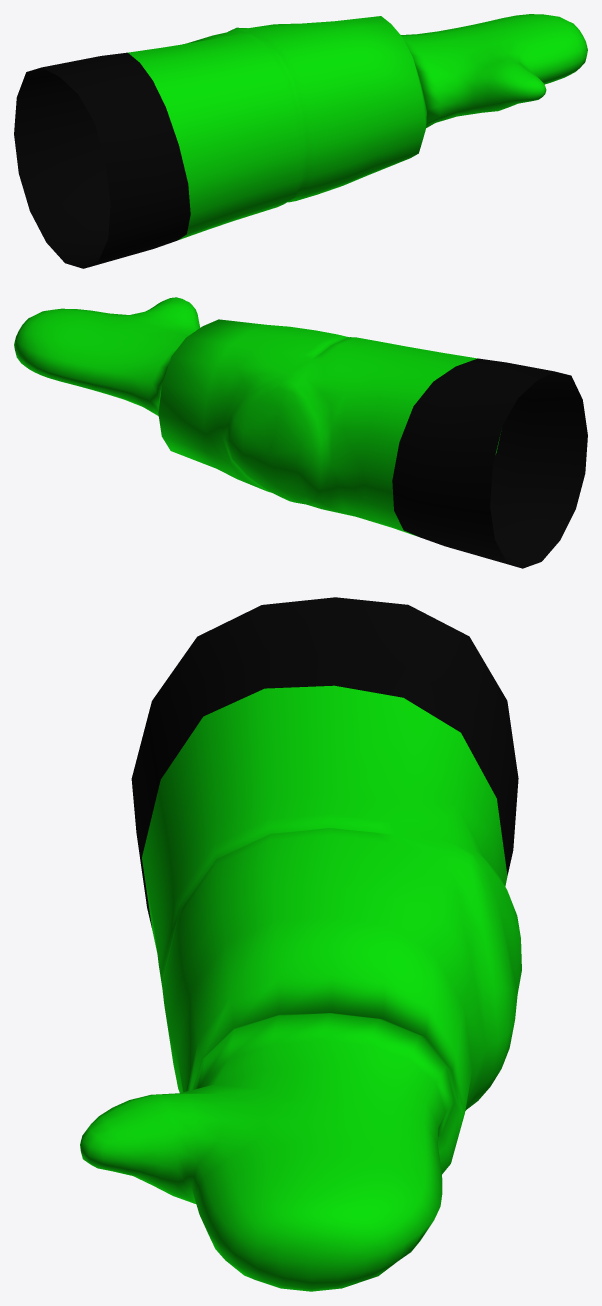
File: Leftarm1.fbx
3 renders of one model, top to bottom at view 1: azimuth 30°, elevation 25°; view 2: azimuth 150°, elevation 25°; view 3: azimuth 270°, elevation 25°, orthographic. The views are drawn at different scales.
Visible parts, largest first — view 1: polySurface390.002; view 2: polySurface390.002; view 3: polySurface390.002.
Boxes of the visible parts, x1,y1,x2,y2 form: polySurface390.002: (14,14,587,268); polySurface390.002: (14,297,587,568); polySurface390.002: (80,597,521,1291).
Bounding box in the file's own units: 49.6 × 16.85 × 18.51.
